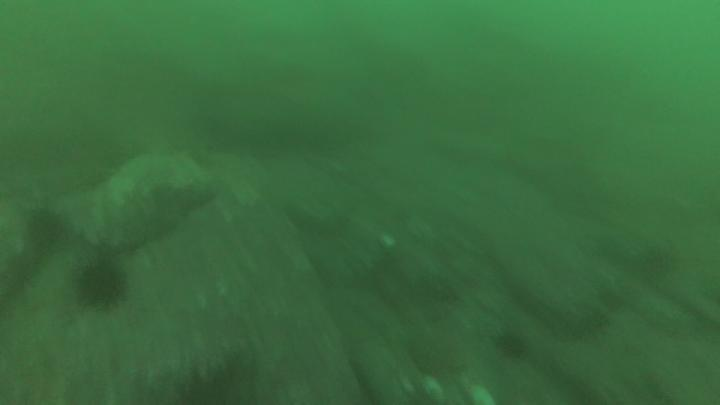echinus: (73, 261, 129, 310), (30, 213, 71, 251)
scallop: (422, 376, 446, 403), (468, 385, 495, 405), (379, 233, 397, 250)
